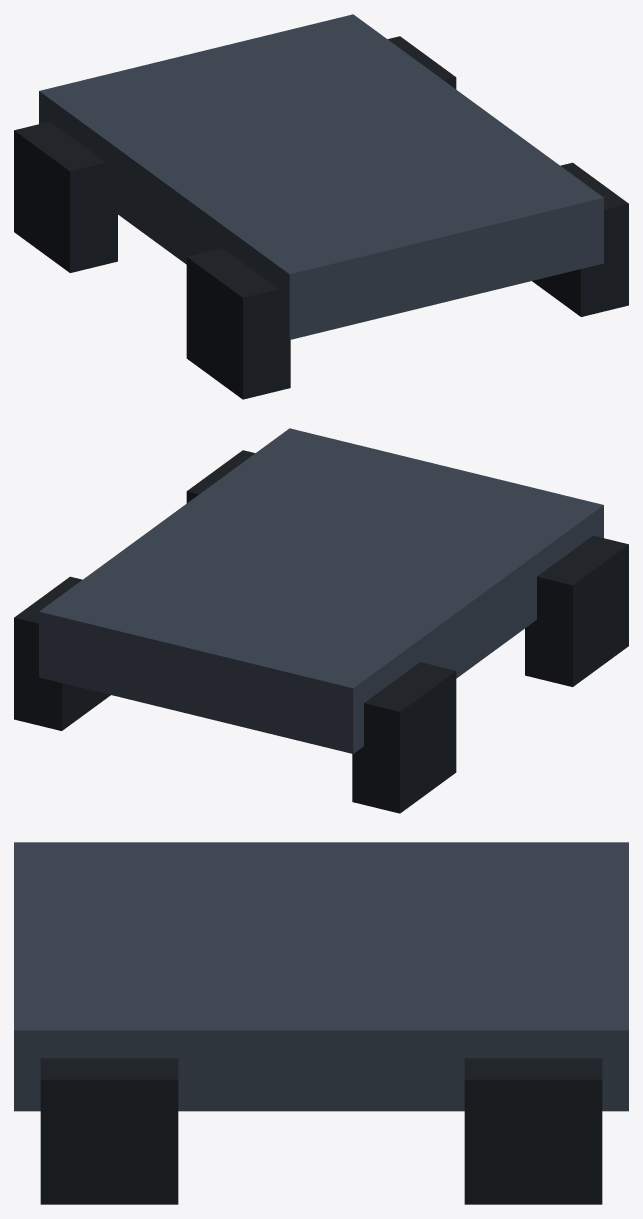
The model's file is bogie.obj.
3 renders of one model, top to bottom at view 1: azimuth 30°, elevation 25°; view 2: azimuth 150°, elevation 25°; view 3: azimuth 270°, elevation 25°, orthographic. The views are drawn at different scales.
Parts seen in each view (by area): view 1: Bogie_Frame, Wheel_Front_Right, Wheel_Rear_Right, Wheel_Front_Left, Wheel_Rear_Left; view 2: Bogie_Frame, Wheel_Rear_Right, Wheel_Front_Right, Wheel_Rear_Left, Wheel_Front_Left; view 3: Bogie_Frame, Wheel_Front_Left, Wheel_Rear_Left.
Boxes of the visible parts, bbox=[...] form: Bogie_Frame: bbox=[39, 14, 603, 339]; Wheel_Front_Right: bbox=[186, 248, 290, 399]; Wheel_Rear_Right: bbox=[14, 121, 117, 272]; Wheel_Front_Left: bbox=[532, 162, 628, 316]; Wheel_Rear_Left: bbox=[387, 36, 456, 89]; Bogie_Frame: bbox=[39, 428, 603, 753]; Wheel_Rear_Right: bbox=[352, 662, 456, 813]; Wheel_Front_Right: bbox=[525, 535, 628, 686]; Wheel_Rear_Left: bbox=[14, 576, 110, 730]; Wheel_Front_Left: bbox=[186, 450, 255, 503]; Bogie_Frame: bbox=[14, 842, 628, 1111]; Wheel_Front_Left: bbox=[40, 1058, 178, 1204]; Wheel_Rear_Left: bbox=[464, 1058, 602, 1204].
Bounding box in the file's own units: 2.58 × 0.795 × 2.9.
